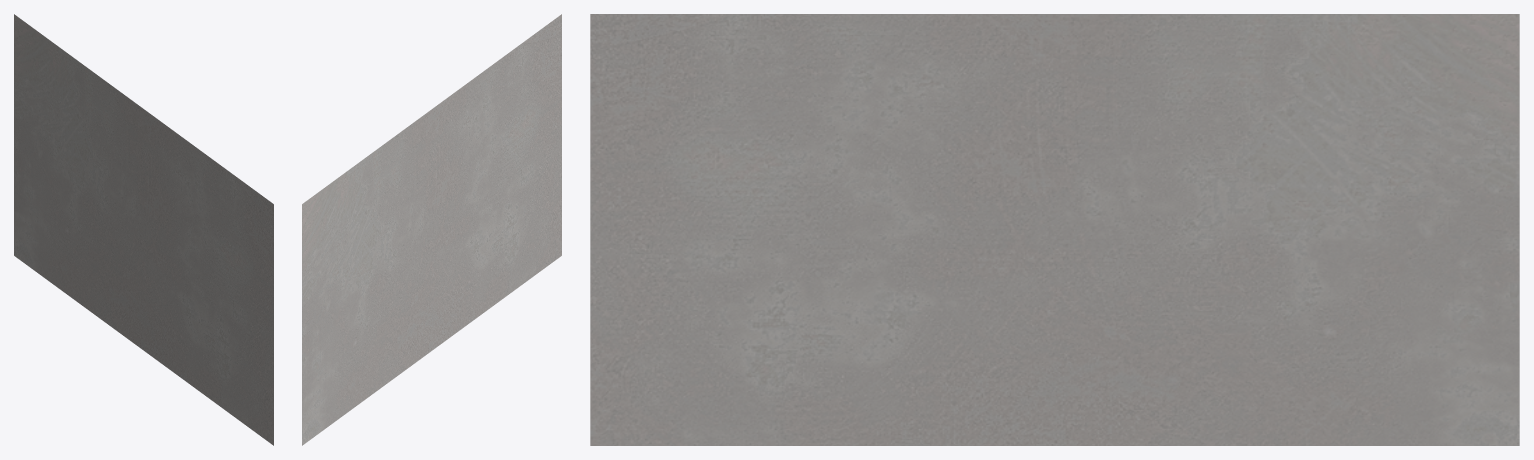
Rendered from right_wall.glb.
3 views of the same model, side by side, from view 1: azimuth 30°, elevation 25°; view 2: azimuth 150°, elevation 25°; view 3: azimuth 270°, elevation 25° (orthographic). The views are drawn at different scales.
Visible parts, largest first — view 1: Right_Wall; view 2: Right_Wall; view 3: Right_Wall.
Part boxes in pixels (<box>): Right_Wall: <box>14,14,273,445</box>; Right_Wall: <box>302,14,561,445</box>; Right_Wall: <box>590,14,1519,445</box>.
Size of the model in its own units: 4.77e-07 by 3.04 by 5.92.
1 material, 1 textured.
